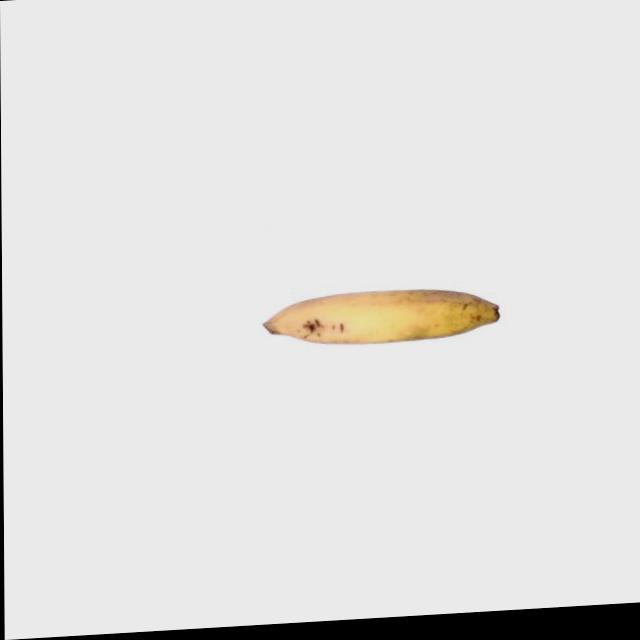banana: (257, 279, 504, 352)
